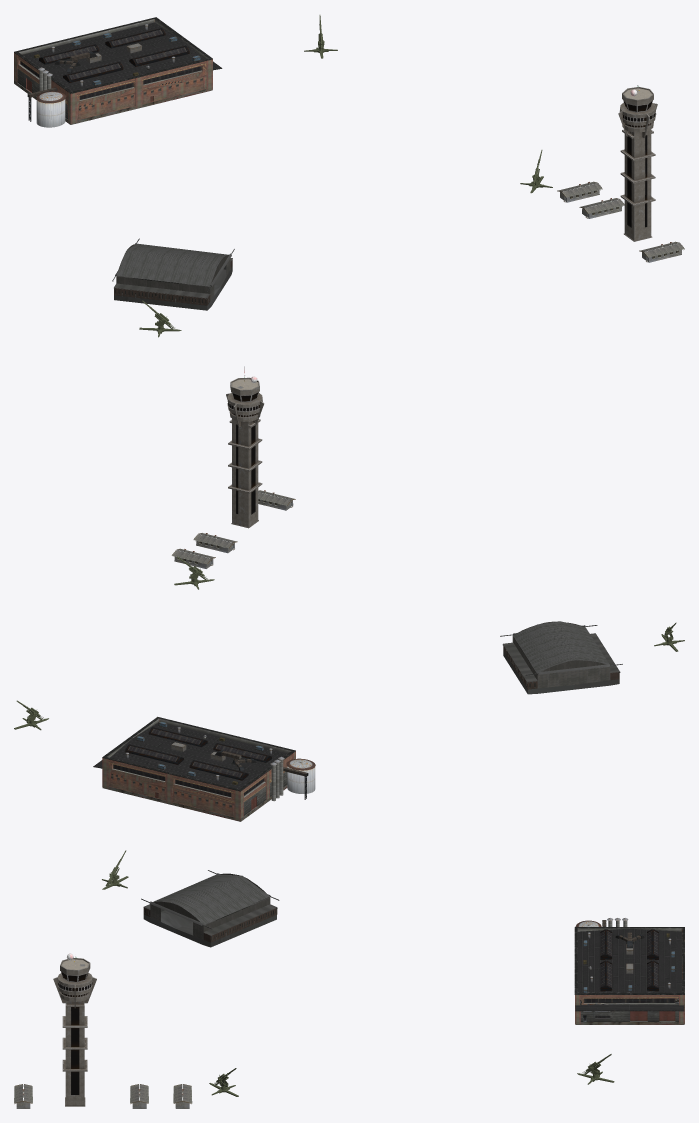
File: Augsburg.glb
3 renders of one model, top to bottom at view 1: azimuth 30°, elevation 25°; view 2: azimuth 150°, elevation 25°; view 3: azimuth 270°, elevation 25°, orthographic. The views are drawn at different scales.
Visible parts, largest first — view 1: Vacc, Object_2, Tower_AirTower01MAT_0, Object_2.001, Object_2.003, Object_2.002; view 2: Vacc, Object_2, Tower_AirTower01MAT_0; view 3: Vacc, Object_2, Tower_AirTower01MAT_0, Object_2.003, Object_2.002, Object_2.001.
Part boxes in pixels (box(x1,y1,x2,y2)): Vacc: box(14, 17, 222, 127); Object_2: box(112, 238, 234, 310); Tower_AirTower01MAT_0: box(618, 85, 657, 241); Object_2.001: box(639, 241, 684, 262); Object_2.003: box(557, 181, 602, 202); Object_2.002: box(579, 198, 624, 218); Vacc: box(93, 716, 315, 821); Object_2: box(500, 621, 622, 694); Tower_AirTower01MAT_0: box(226, 366, 264, 528); Vacc: box(574, 918, 684, 1024); Object_2: box(141, 870, 279, 947); Tower_AirTower01MAT_0: box(53, 953, 96, 1106); Object_2.003: box(173, 1084, 192, 1108); Object_2.002: box(130, 1084, 148, 1108); Object_2.001: box(14, 1084, 32, 1108).
Size of the model in its own units: 202 by 64.79 by 246.
12 materials, 6 textured.
